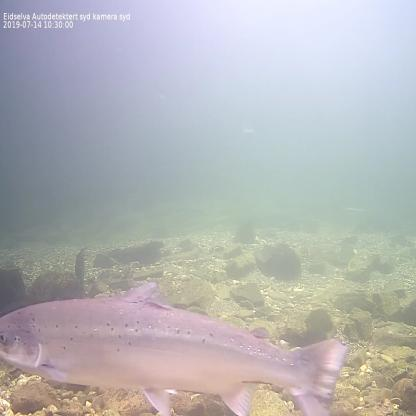salmon: (0, 280, 350, 416)
